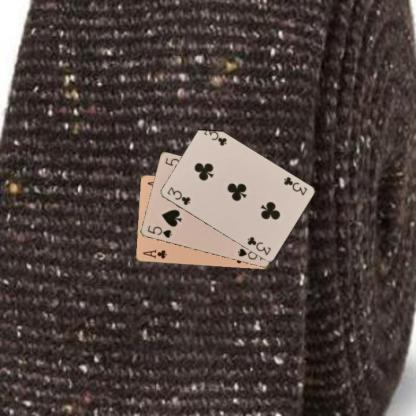3c: (281, 174, 308, 197), (165, 184, 191, 207)
5s: (144, 223, 173, 239)
Ac: (140, 247, 168, 260)
